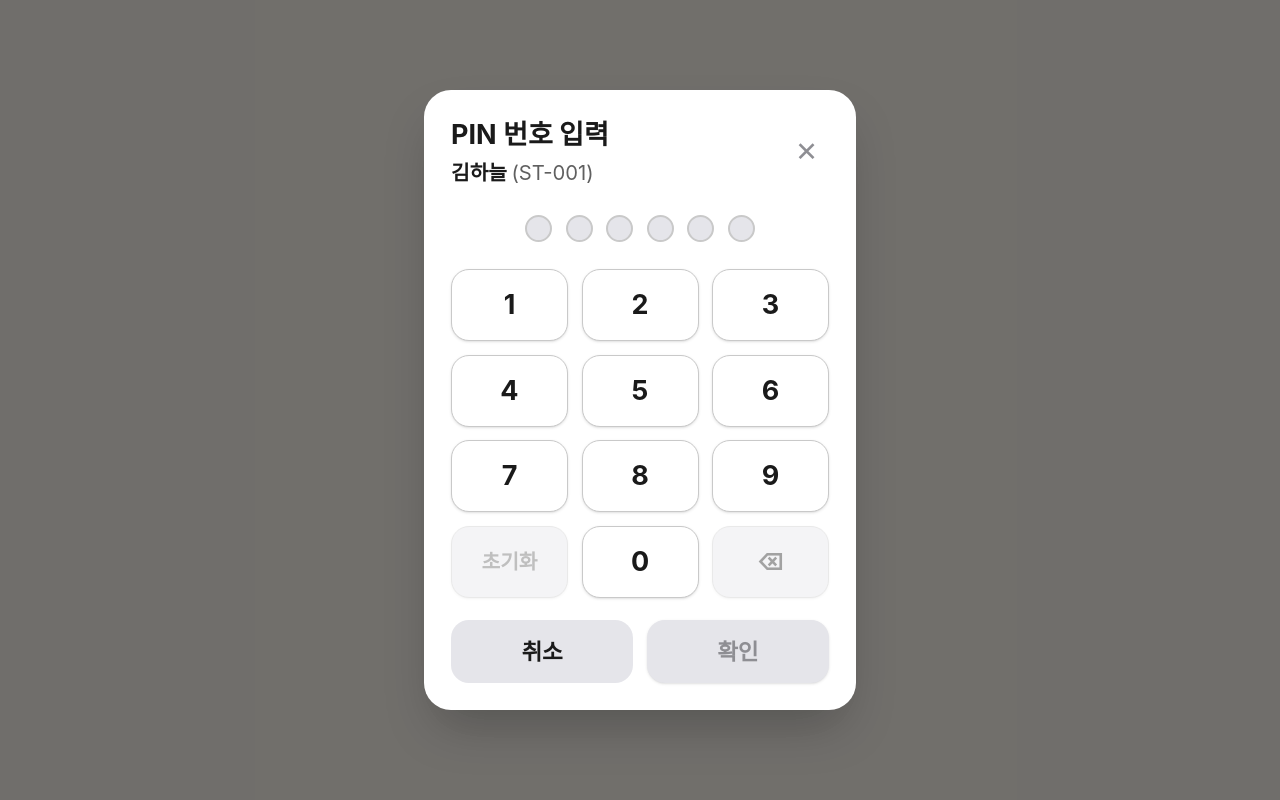
Test case: PinPadModal › 5회 연속 실패 시 1분간 잠금 안내를 표시하고 입력을 비활성화한다
Click the button "1" at coordinates (510, 306), box [451,270,568,342]
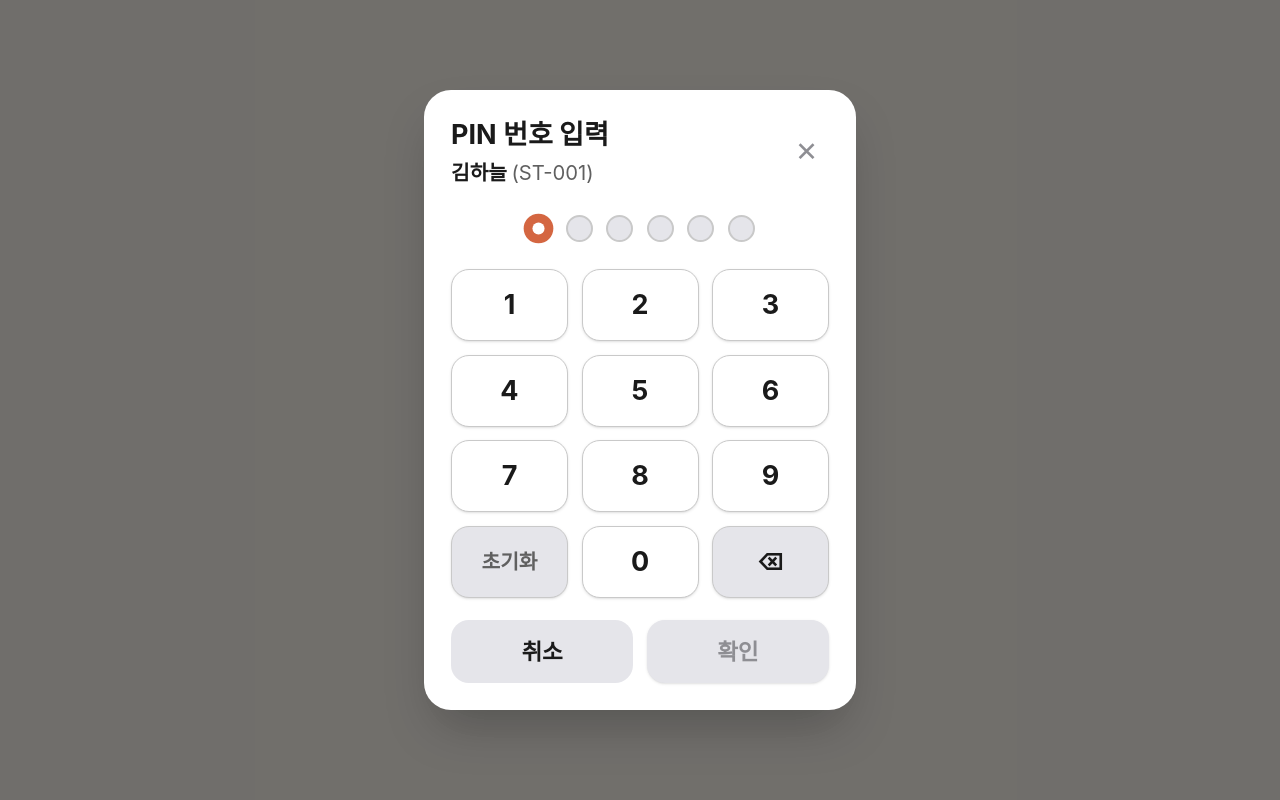
Click the button "2" at coordinates (640, 306), box [582,270,698,342]
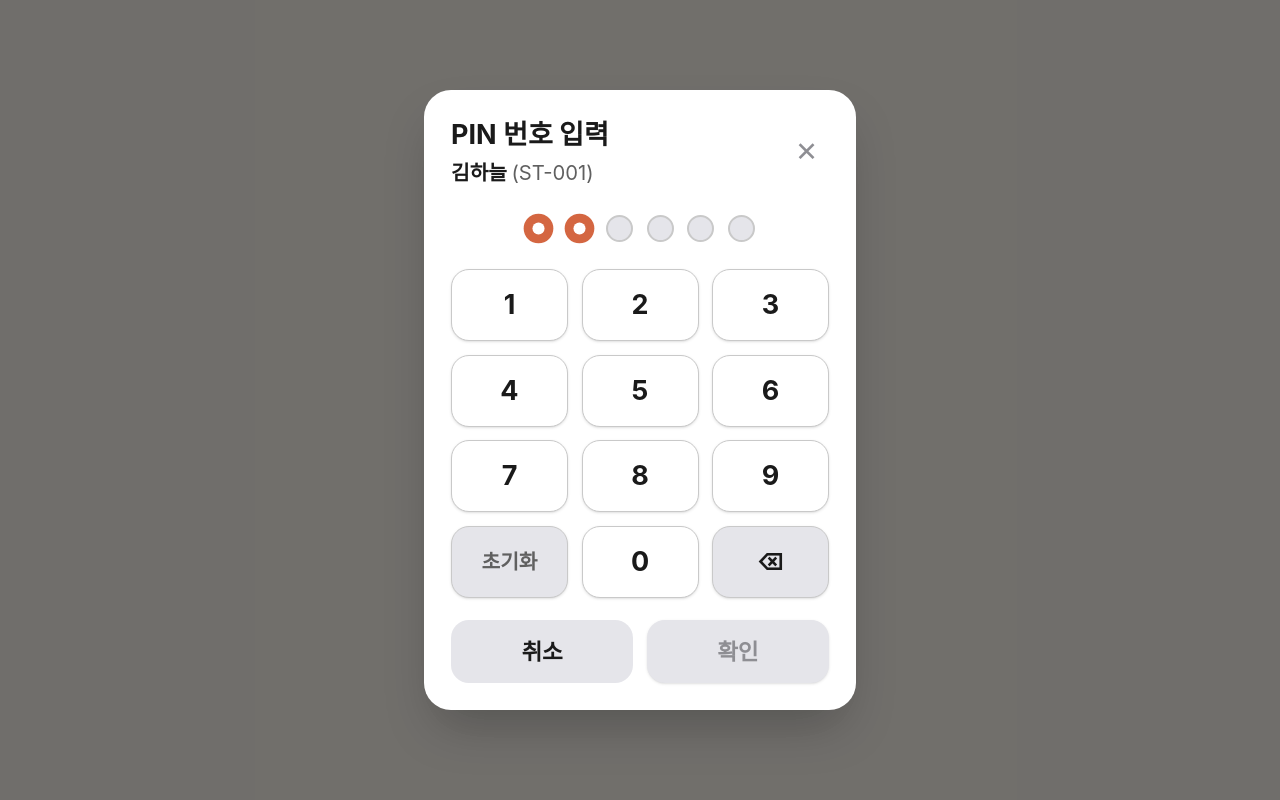
Click the button "3" at coordinates (770, 306), box [712,270,829,342]
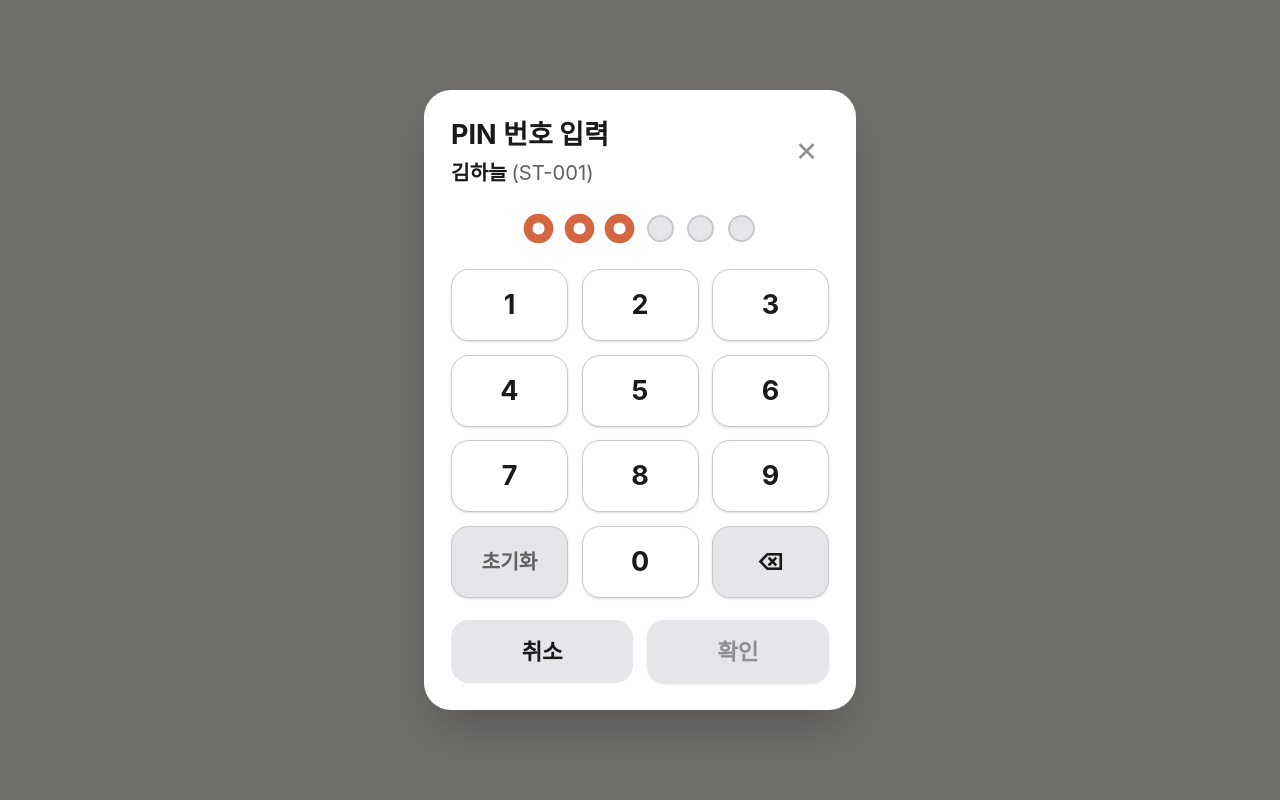
Click the button "4" at coordinates (510, 391), box [451,355,568,427]
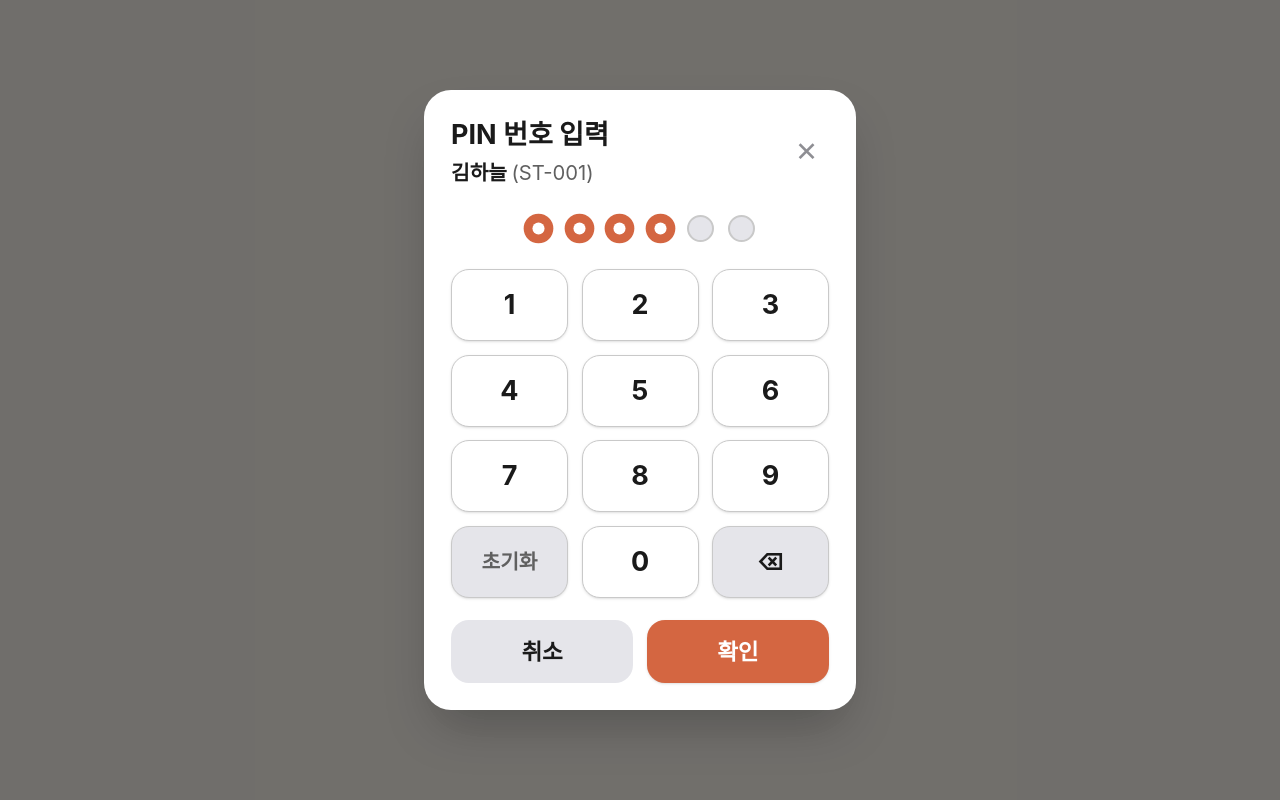
Click the button "확인" at coordinates (738, 652), box [647,620,829,684]
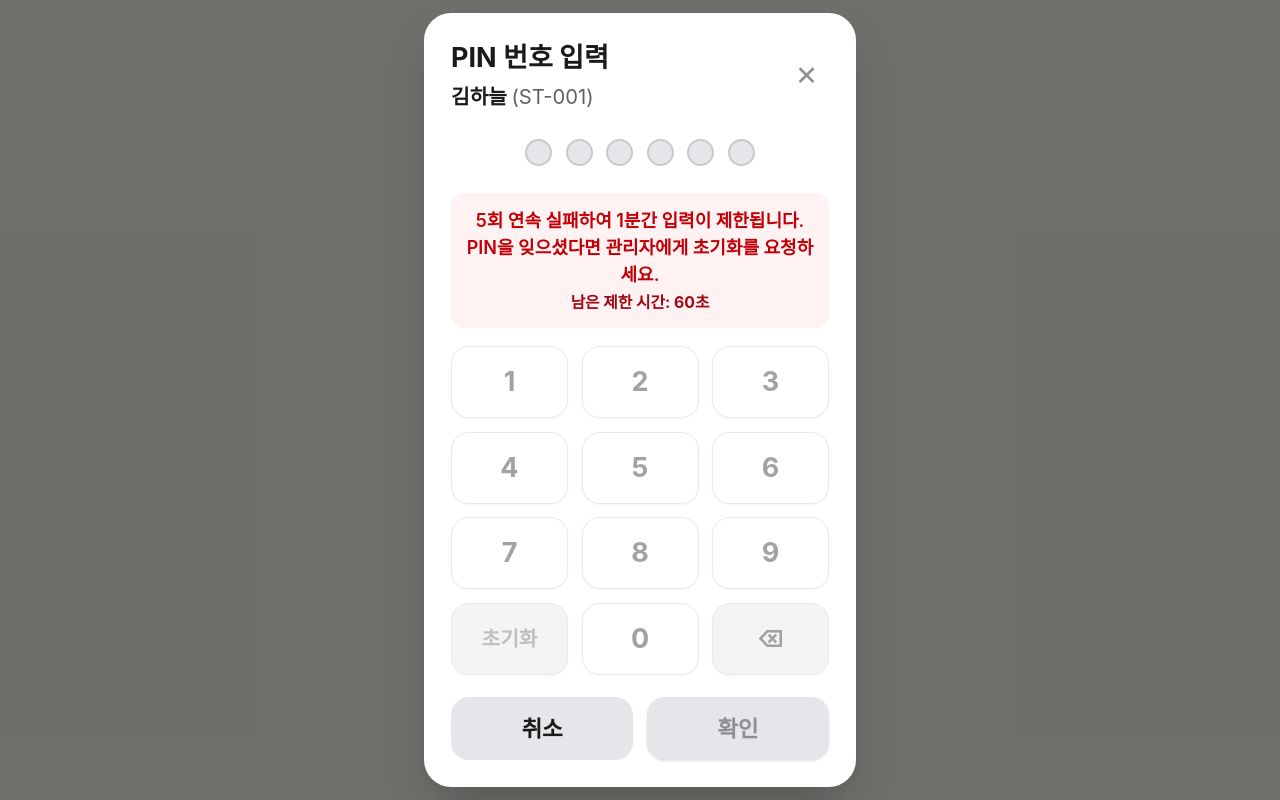
Now the message shows "5회 연속 실패하여 1분간 입력이 제한됩니다", box [467,210,813,284]
Now the button "1" is disabled, box [451,346,568,418]
